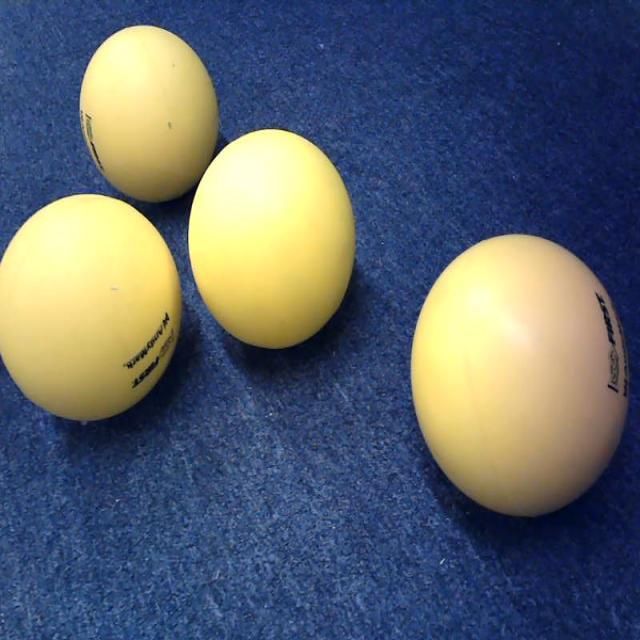Fuel: (410, 231, 632, 520), (0, 191, 184, 423), (187, 127, 358, 351), (78, 24, 222, 205)
